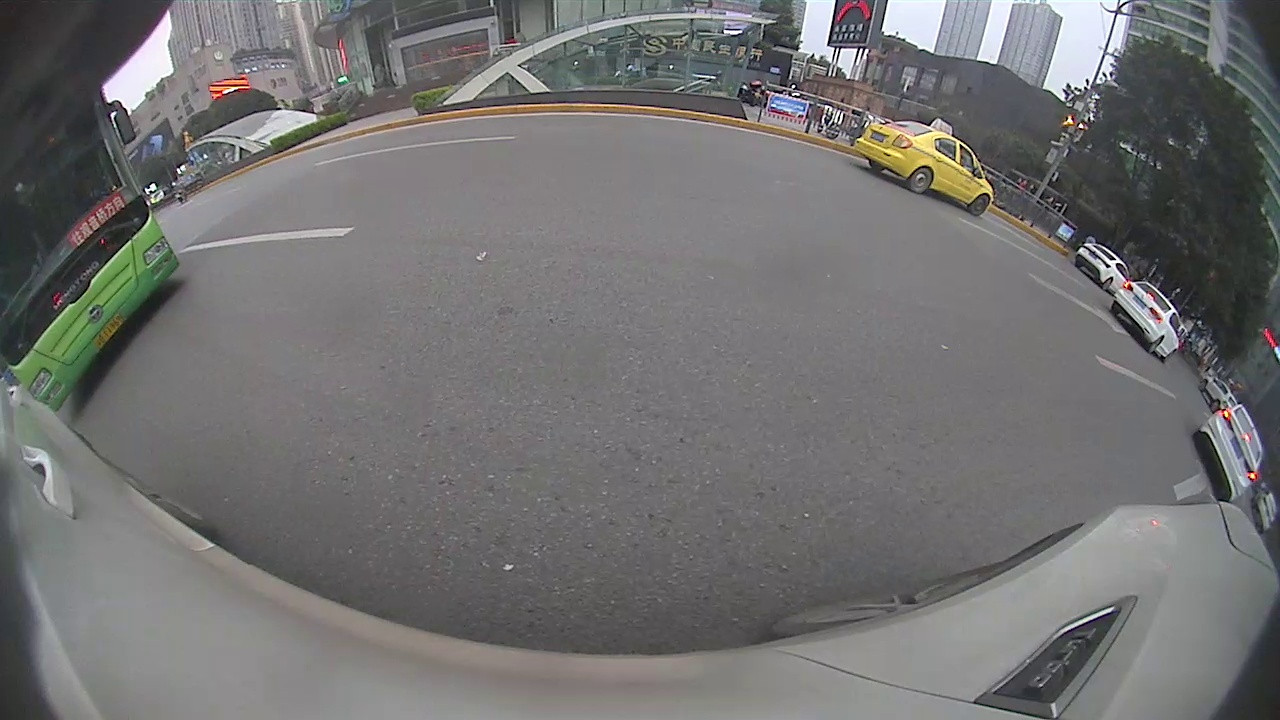bus: (1, 81, 181, 419)
car: (847, 113, 998, 219), (1190, 405, 1267, 504), (1109, 280, 1184, 364), (1072, 240, 1133, 299)
front: (967, 193, 991, 218)
rear: (907, 168, 936, 196)
